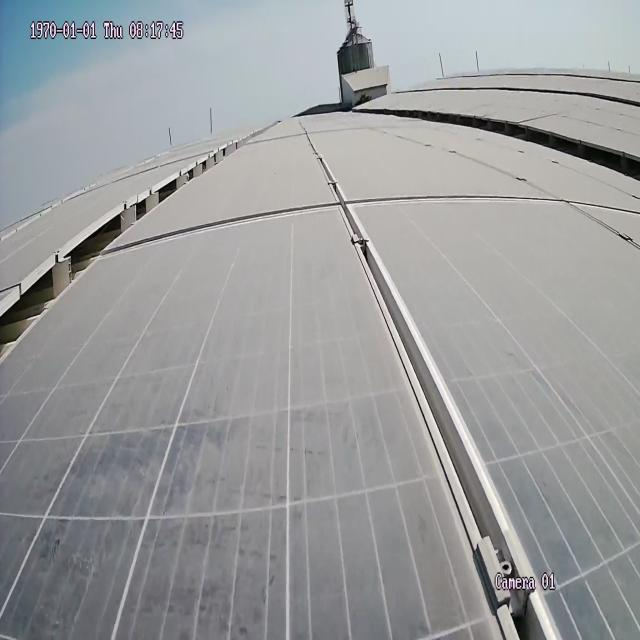interior panel: (309, 145, 557, 634), (140, 194, 333, 260), (363, 192, 623, 220)
outher panel: (3, 130, 254, 364), (390, 105, 633, 189)
